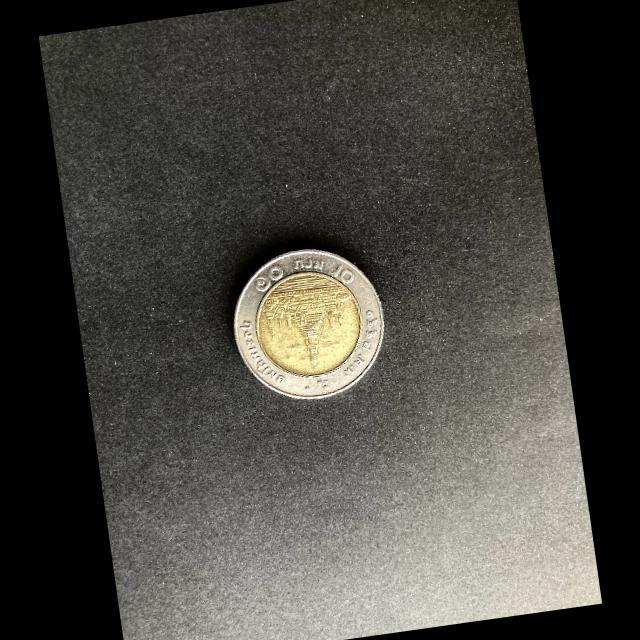10 Bath: (229, 244, 389, 406)
